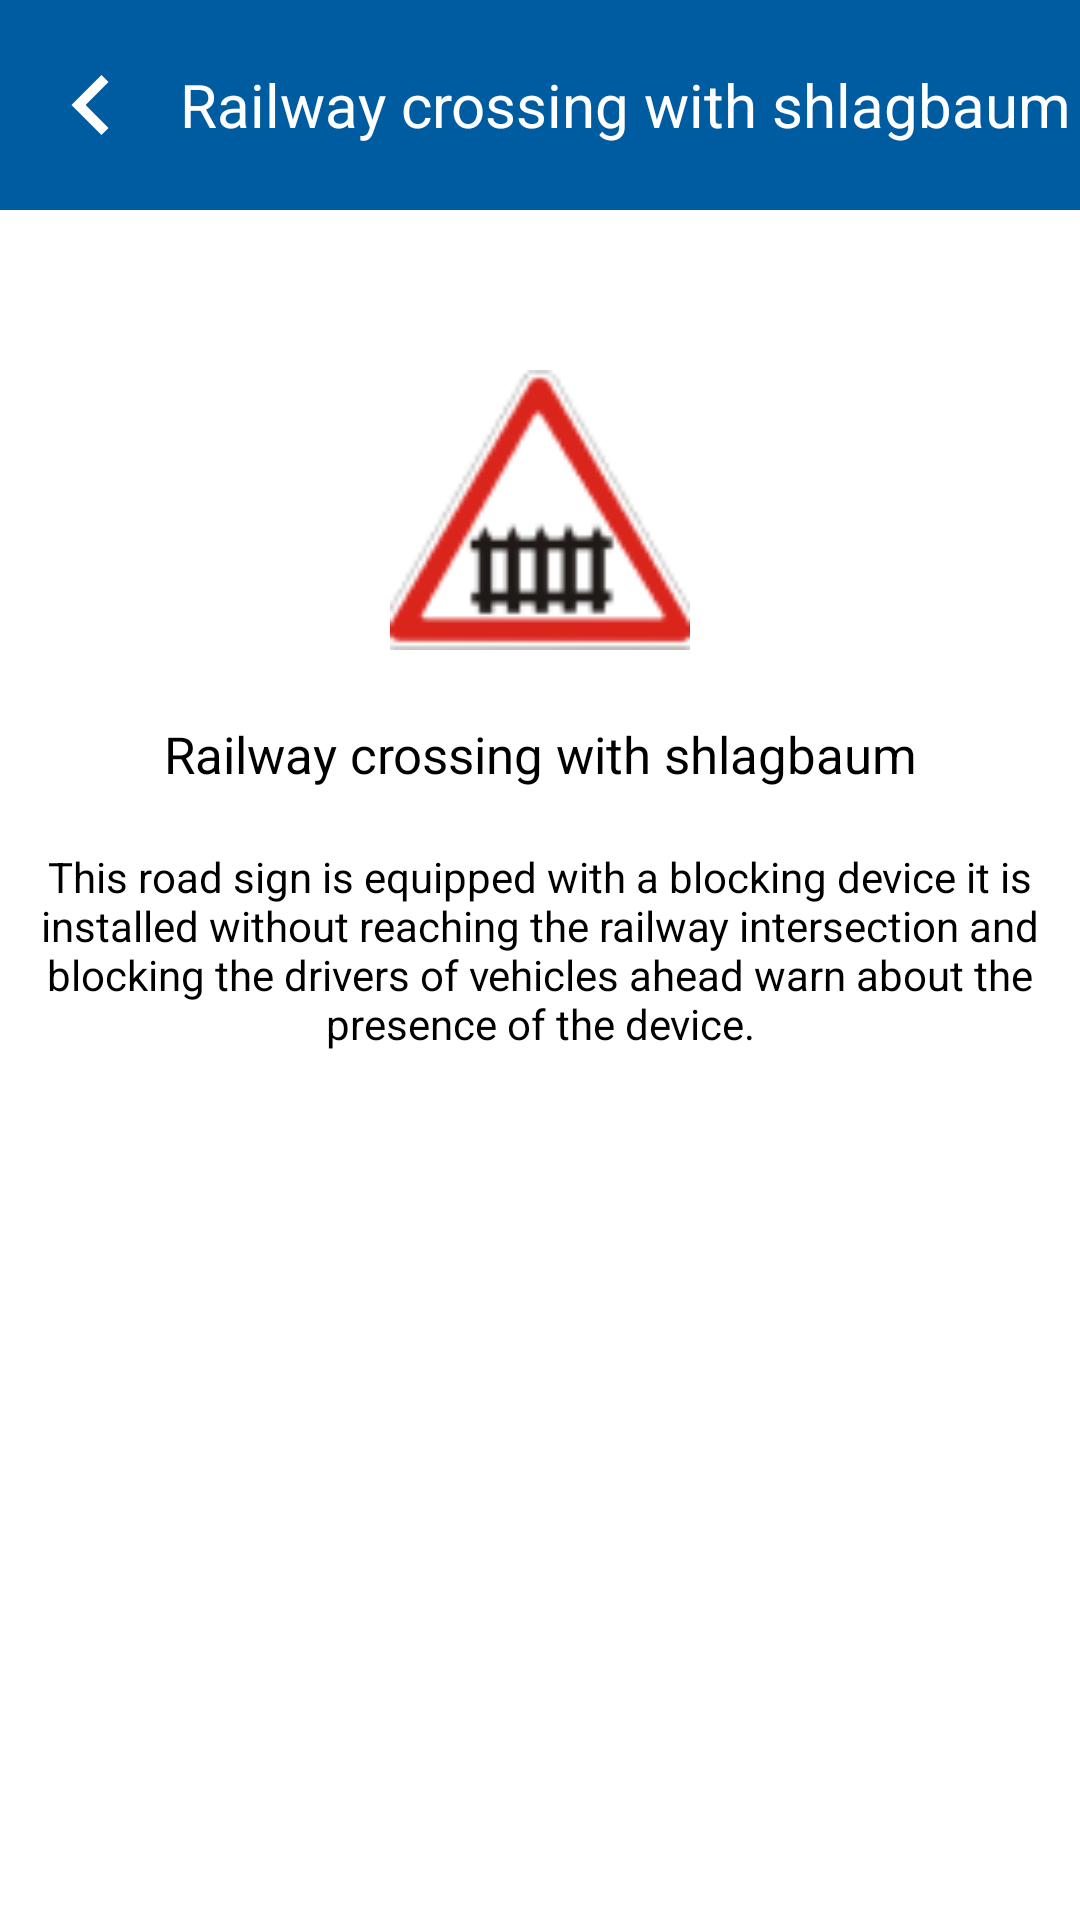

Point at icon controls on the screen. Image size 1080x1920, points as [x,y].
arrow back: [90,105]
